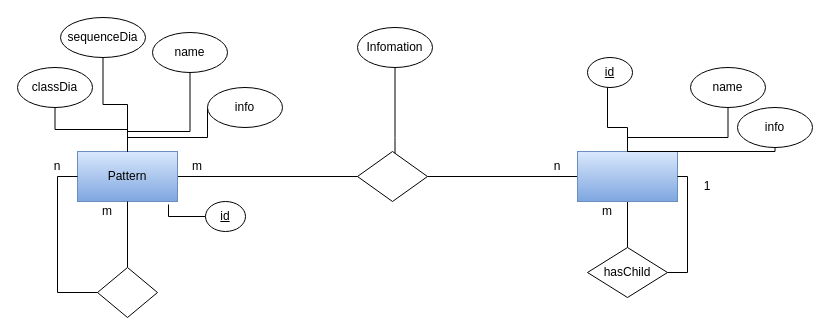
Some shapes in this 830 by 335 pixel diagram are drawn without their labels. Here are the shapes that lost their labels. From the top down, the box of each, then its label:
(356, 150, 428, 202): Mapping
(576, 150, 678, 202): Tactic
(96, 266, 158, 318): related
